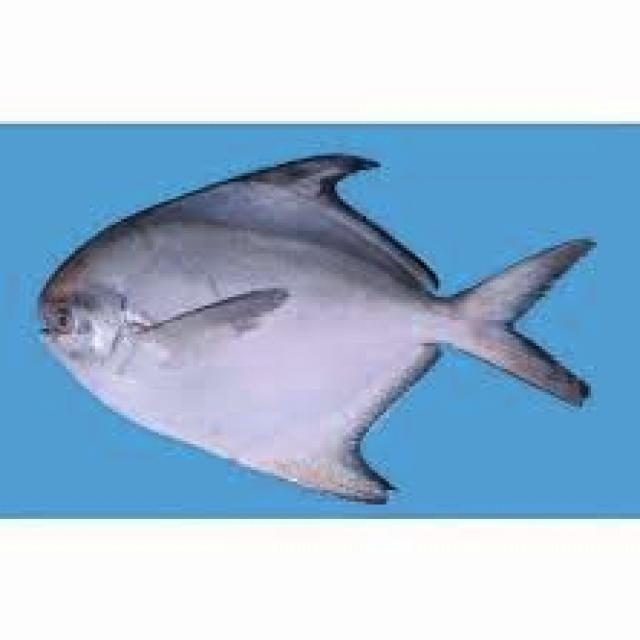pomfred: (41, 151, 593, 504)
